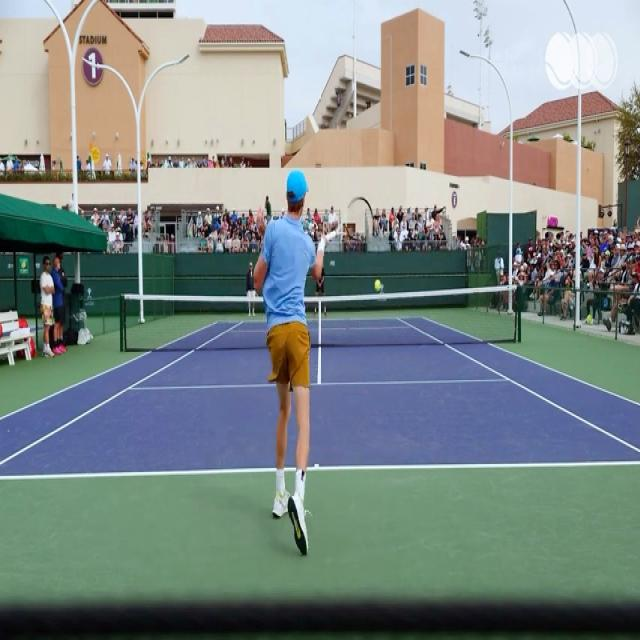forehand-stroke: (252, 173, 363, 553)
